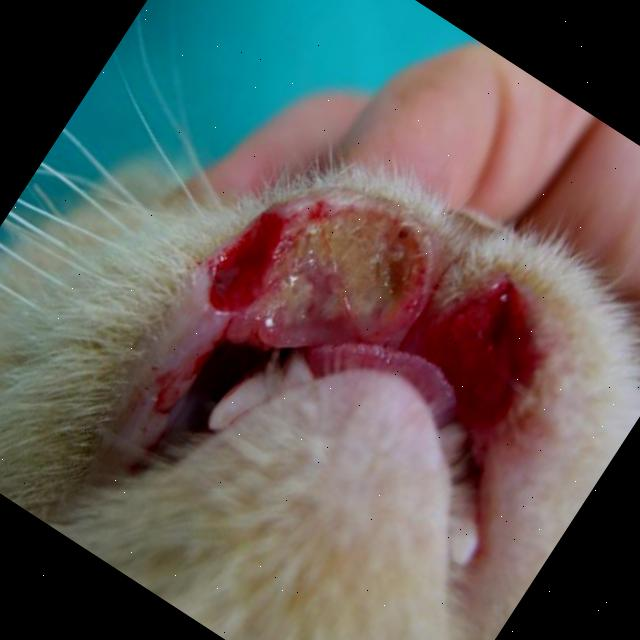cat-ulcer: (172, 133, 464, 430), (381, 252, 598, 470)
